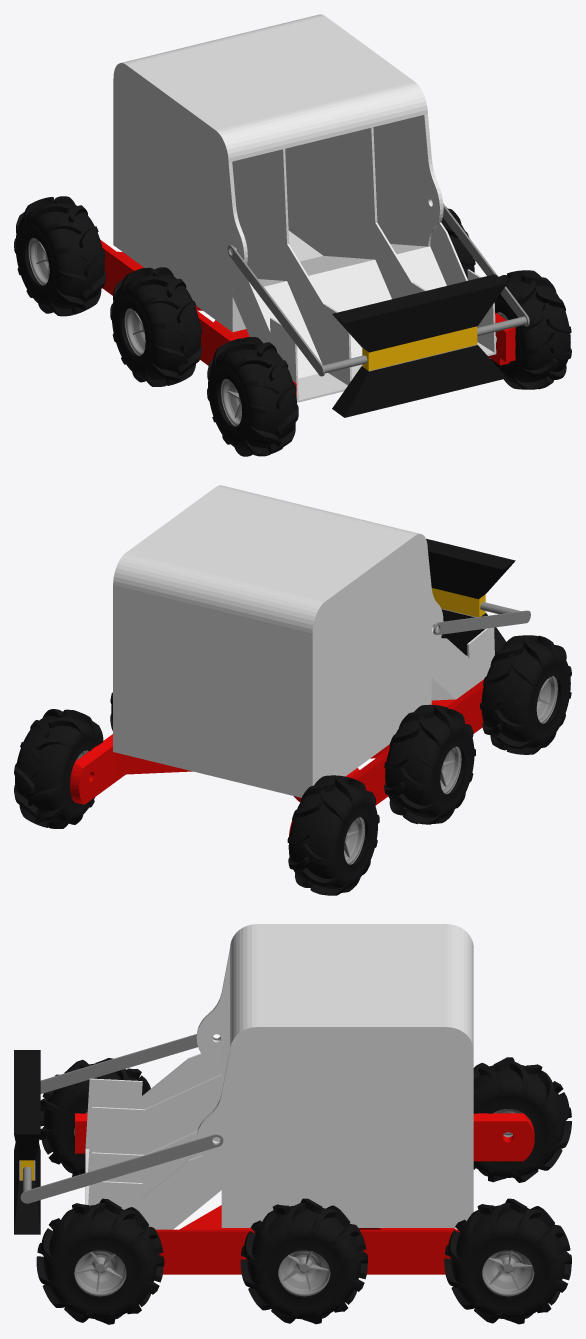
The model's file is recogedor_de_basura_1.fbx.
The picture shows the model from 3 angles, top to bottom: view 1: azimuth 30°, elevation 25°; view 2: azimuth 150°, elevation 25°; view 3: azimuth 270°, elevation 25°; orthographic projection. The views are drawn at different scales.
Visible parts, largest first — view 1: RobotAssembly; view 2: RobotAssembly; view 3: RobotAssembly.
Boxes of the visible parts, left/top/right/bottom form: RobotAssembly: left=14, top=14, right=571, bottom=456; RobotAssembly: left=14, top=485, right=571, bottom=895; RobotAssembly: left=14, top=924, right=571, bottom=1324.
Size of the model in its own units: 88.27 by 68.1 by 126.
